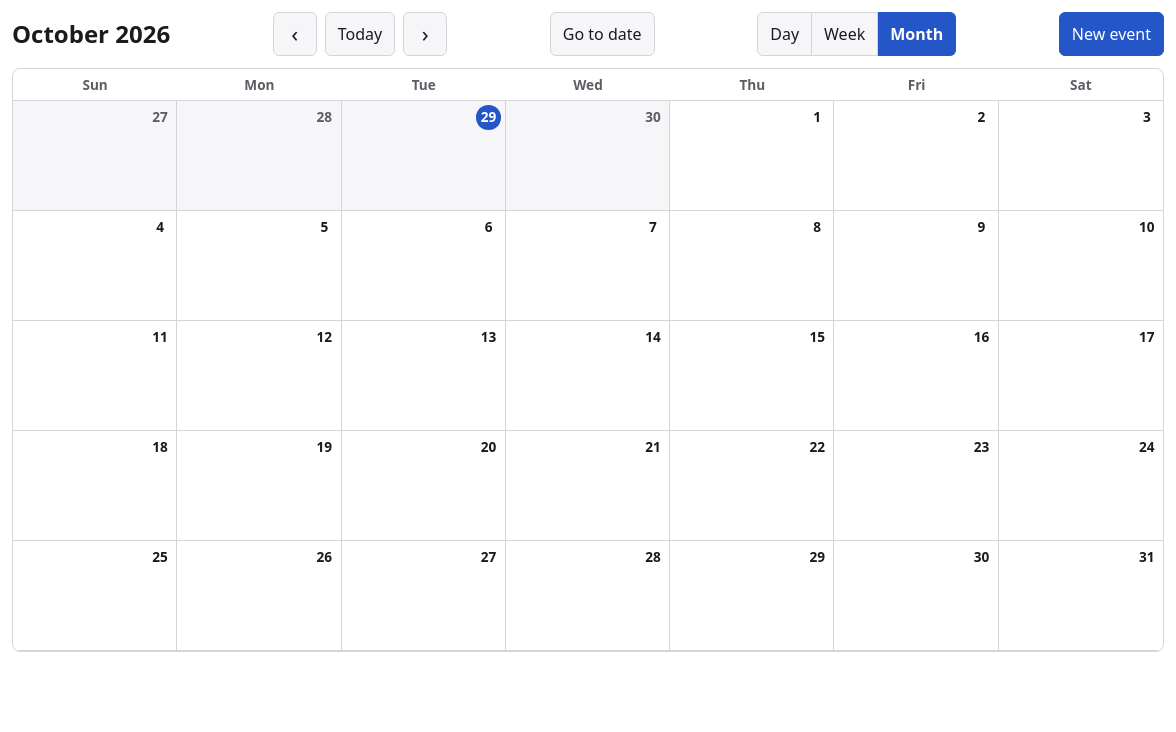
it: CalendarScreen: moving through time (US2) › returns to today in the same view (FR-010)
Click the button "Week" at (845, 34), box [812,12,878,56]
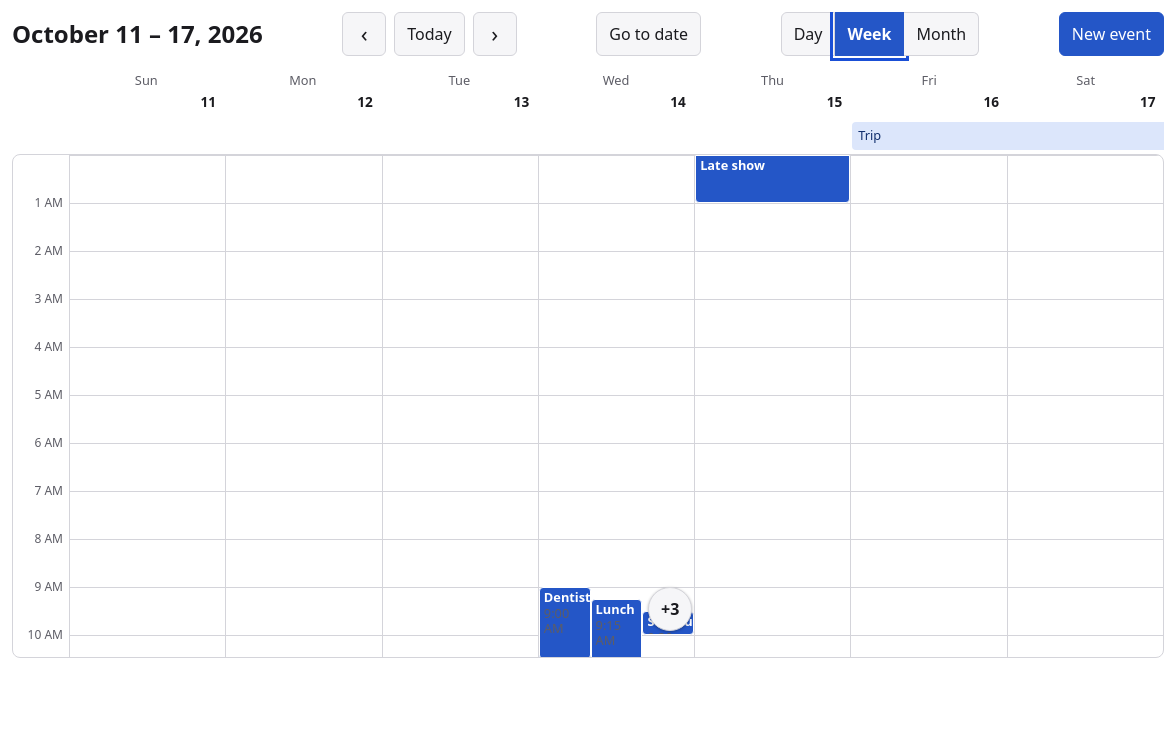
Click the button named "Next week" at (495, 34), box [473,12,517,56]
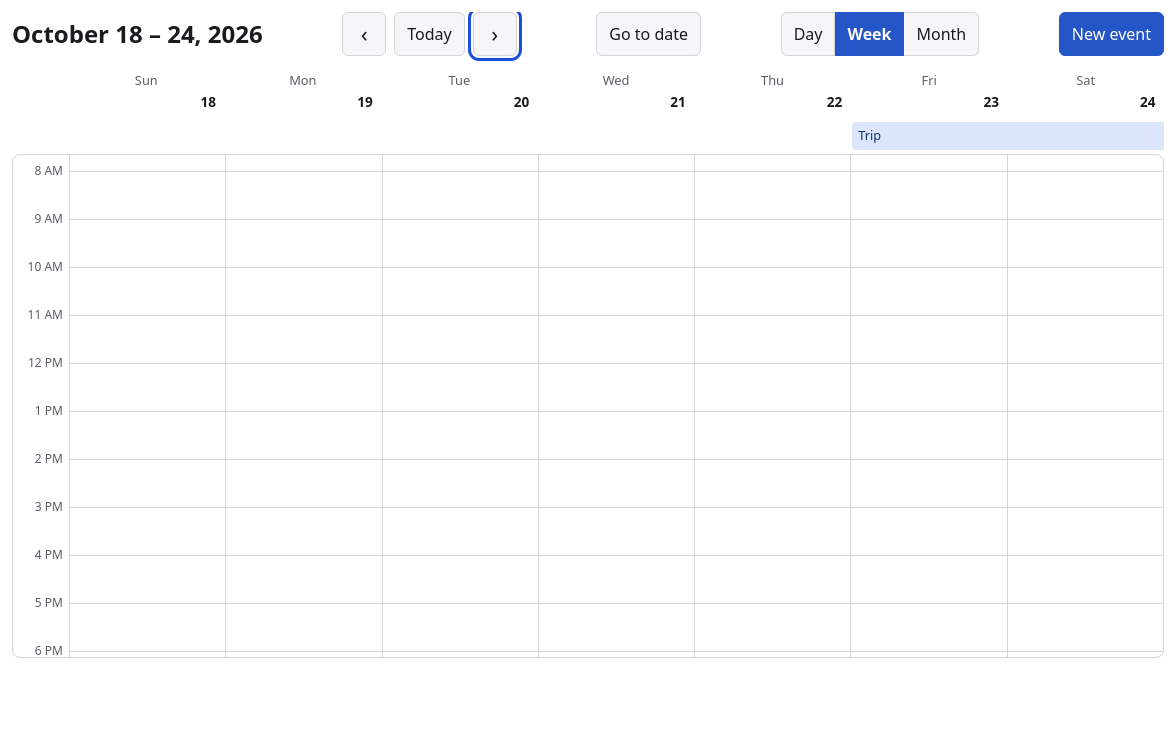
Click the button named "Next week" at (495, 34), box [473,12,517,56]
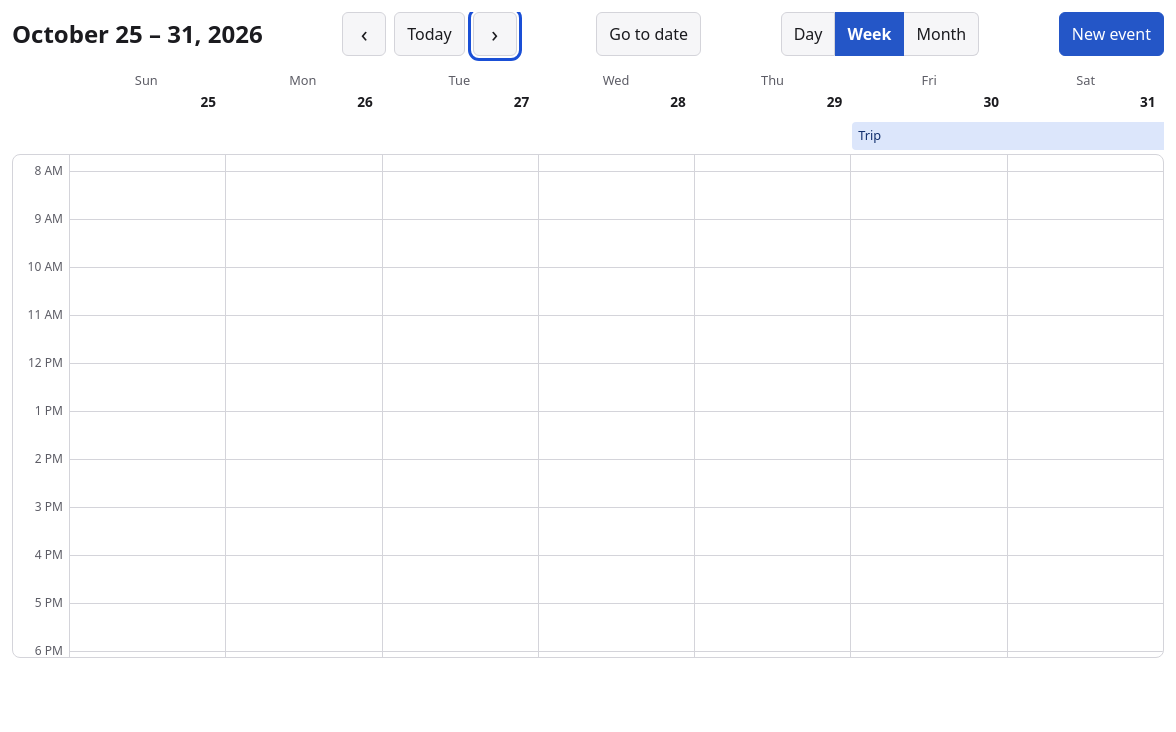
Click the button "Today" at (429, 34), box [394,12,465,56]
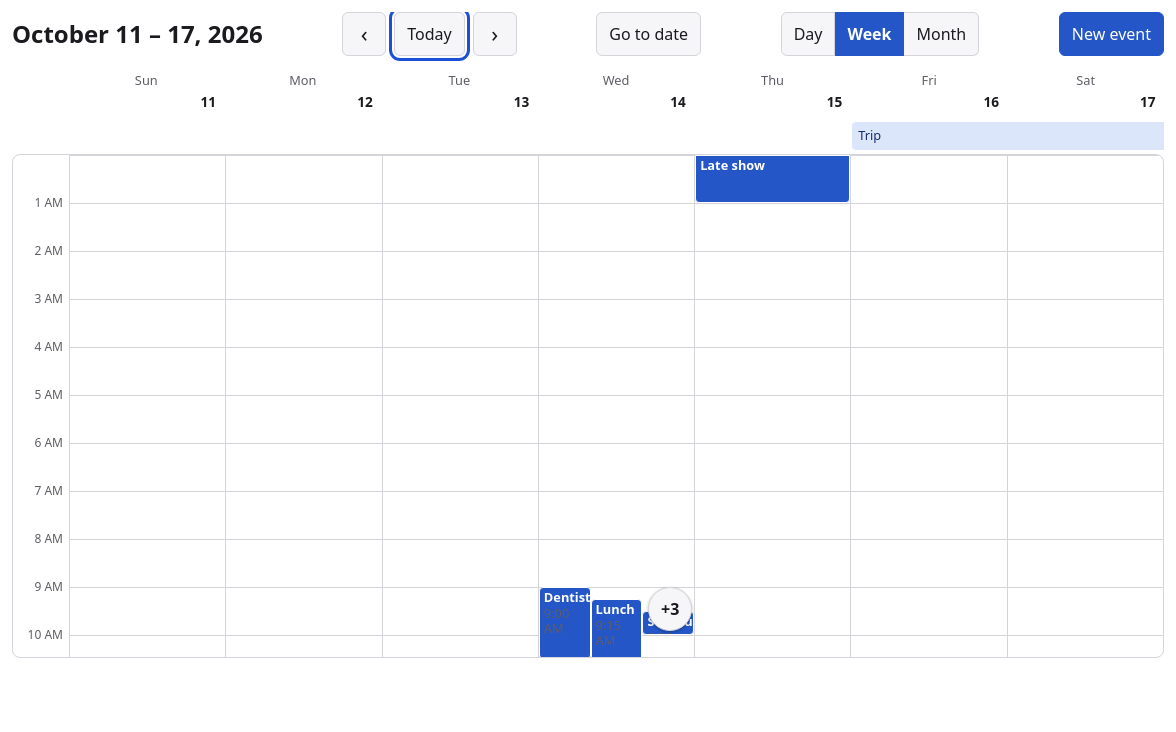
Check: the heading "October 11 – 17, 2026" is shown, box [12,17,263,51]
